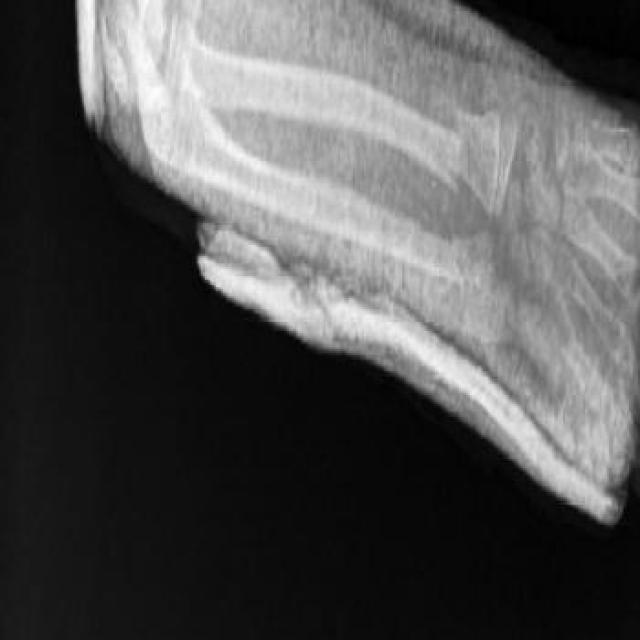Fracture: (447, 109, 471, 204)
